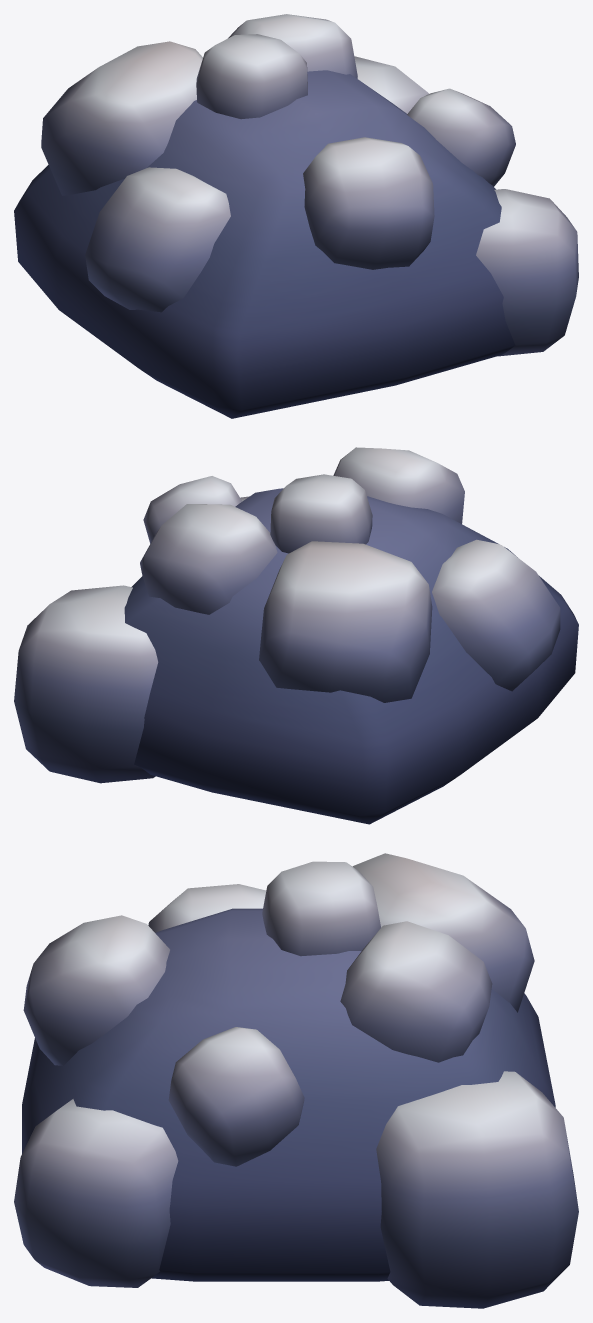
Rendered from block_metal_2_1.fbx.
3 views of the same model, one above another, from view 1: azimuth 30°, elevation 25°; view 2: azimuth 150°, elevation 25°; view 3: azimuth 270°, elevation 25° (orthographic). The views are drawn at different scales.
Parts seen in each view (by area): view 1: block_metal_2_1; view 2: block_metal_2_1; view 3: block_metal_2_1.
Boxes of the visible parts, <box> form: block_metal_2_1: <box>14,14,578,418</box>; block_metal_2_1: <box>14,447,578,824</box>; block_metal_2_1: <box>14,853,578,1308</box>.
Bounding box in the file's own units: 165 × 105 × 164.
